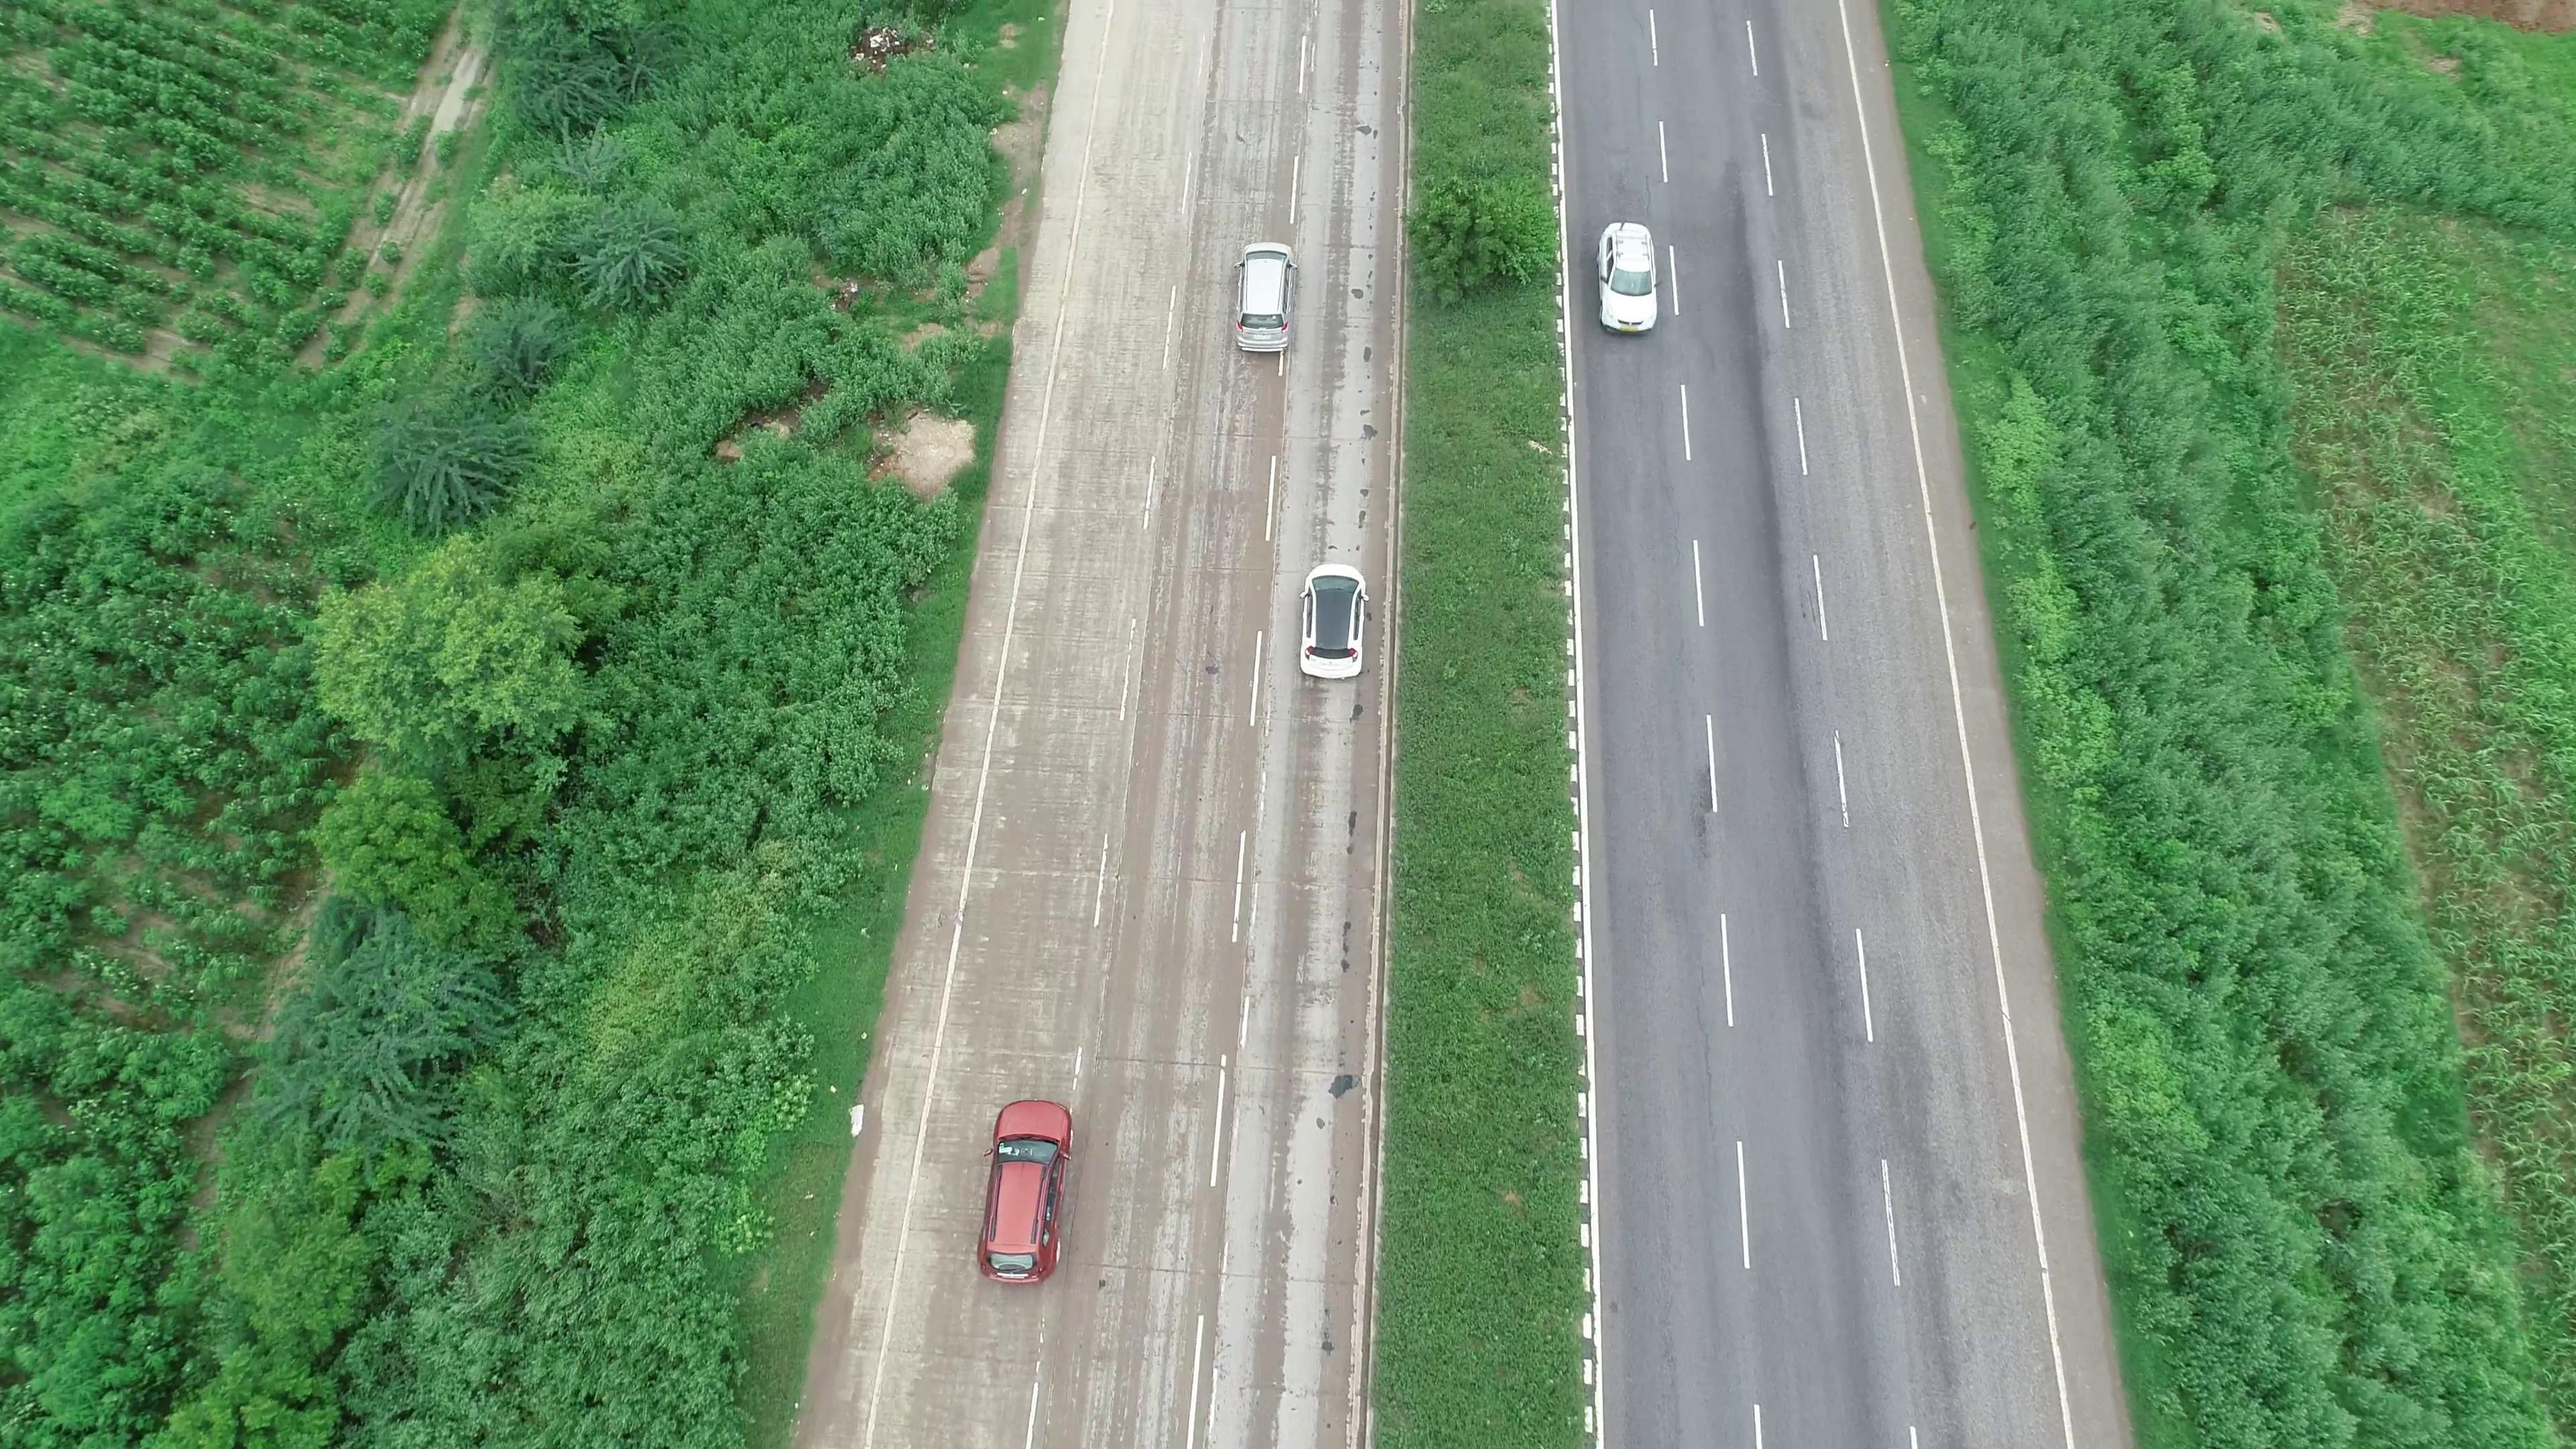Longitudinal_cracks: (1679, 964, 1723, 1169)
